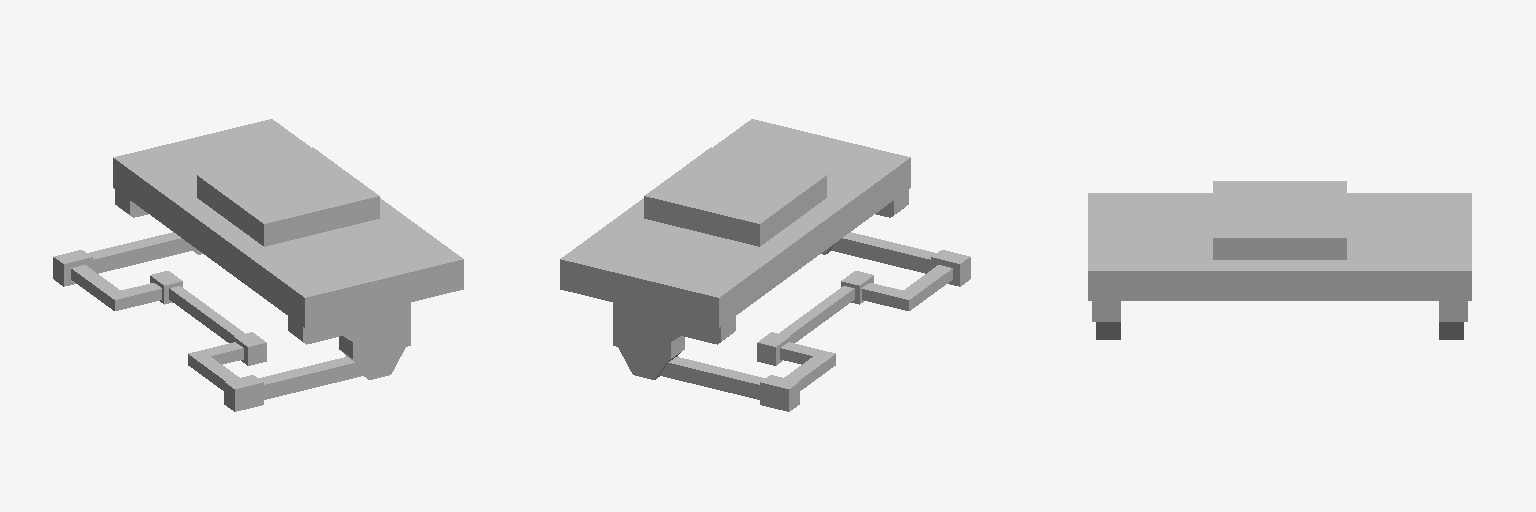
The model's file is df21_top_lh.obj.
3 views of the same model, side by side, from view 1: azimuth 30°, elevation 25°; view 2: azimuth 150°, elevation 25°; view 3: azimuth 270°, elevation 25° (orthographic).
Visible parts, largest first — view 1: cuboid_selection, cube; view 2: cuboid_selection, cube; view 3: cuboid_selection.
Part boxes in pixels (bbox=[...]): cuboid_selection: bbox=[53, 119, 463, 411]; cube: bbox=[150, 271, 266, 365]; cuboid_selection: bbox=[560, 119, 970, 411]; cube: bbox=[757, 271, 873, 365]; cuboid_selection: bbox=[1088, 181, 1471, 339].
Bounding box in the file's own units: 1.94 × 1.03 × 2.88.